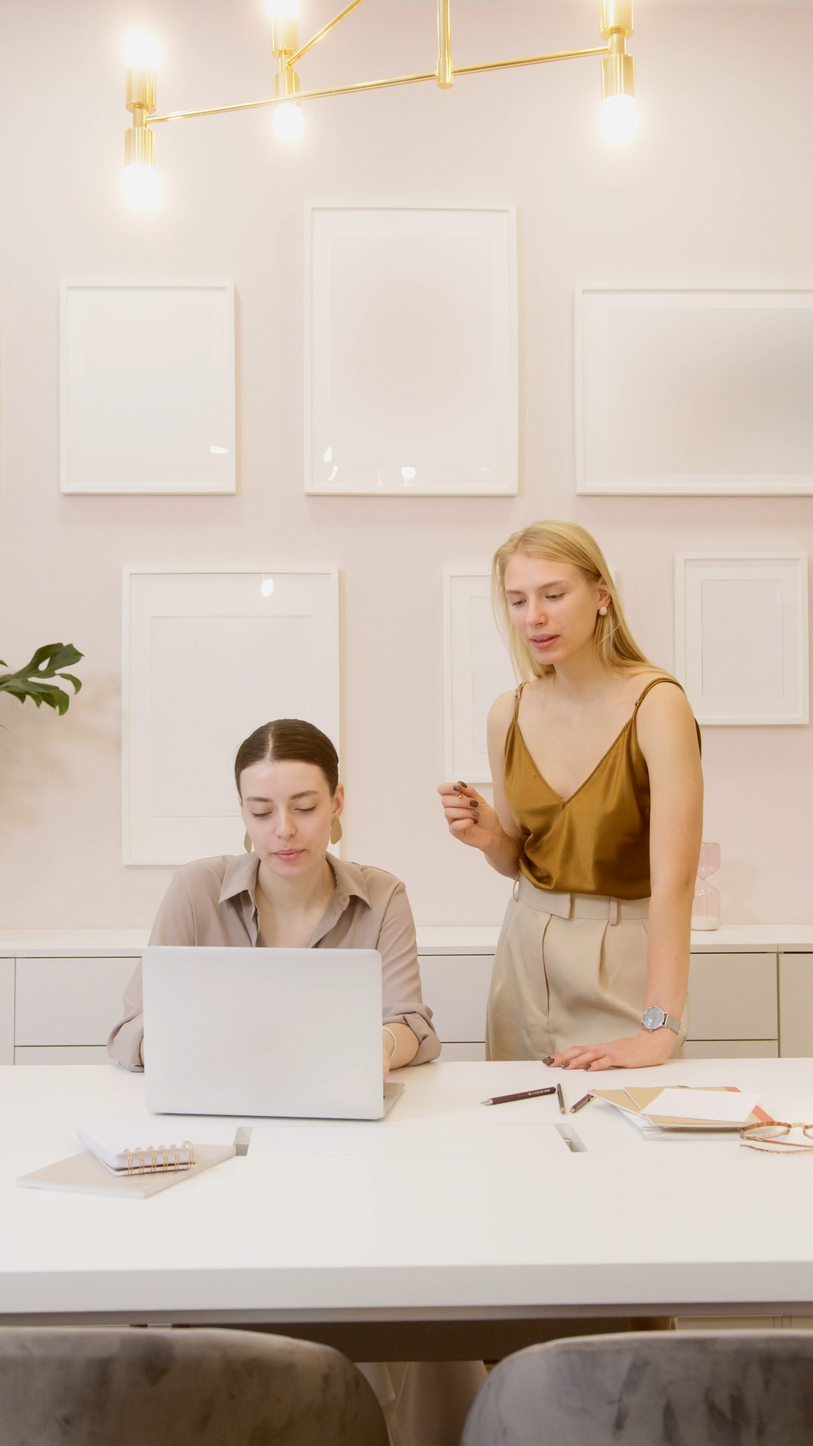No-gloves: (551, 1019, 705, 1086), (440, 772, 510, 859)
